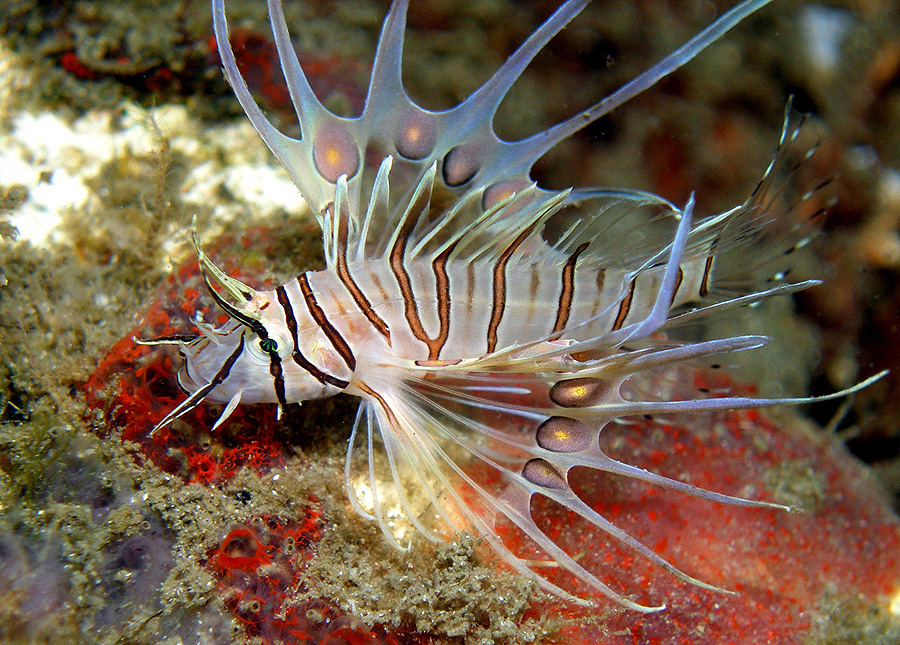Pterois_volitans: (120, 72, 787, 540)
